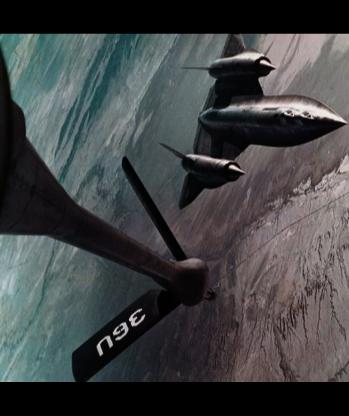Rafale: (156, 34, 347, 211)
